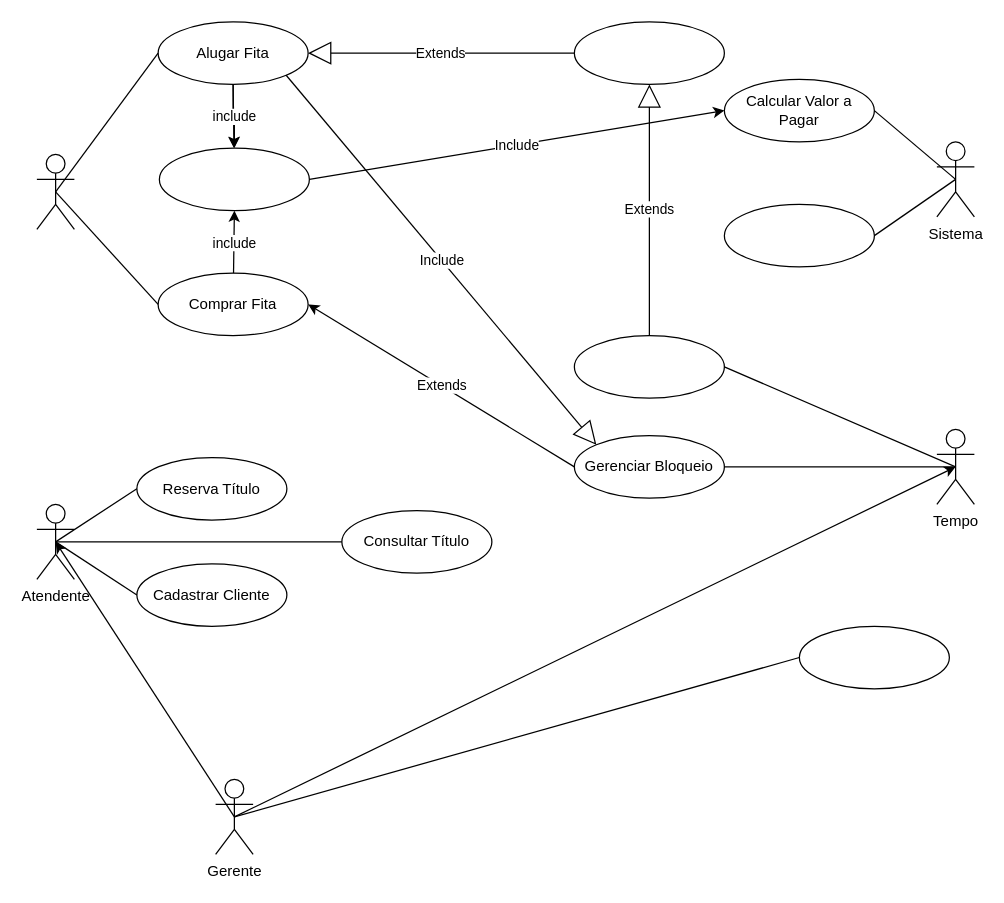
This 1004x903 diagram has some shape labels left out. The box of each missing label's shape, as (x1, y1, x2, y2) in pixels:
Cliente: (36, 153, 74, 229)
Devolver Fita: (573, 21, 724, 84)
Efetuar pagamento: (158, 147, 309, 211)
Manter Cadastro: (798, 625, 949, 689)
Manter Dados: (723, 203, 874, 267)
Pagar Multa: (573, 334, 724, 398)
